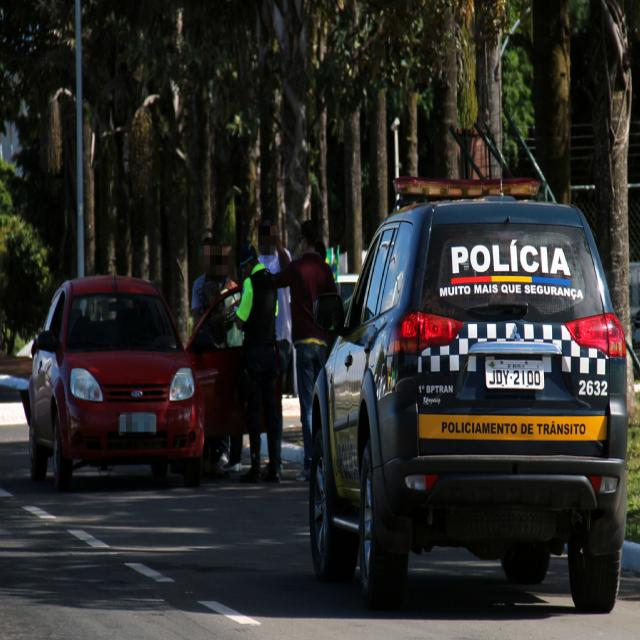car: (28, 275, 267, 474)
